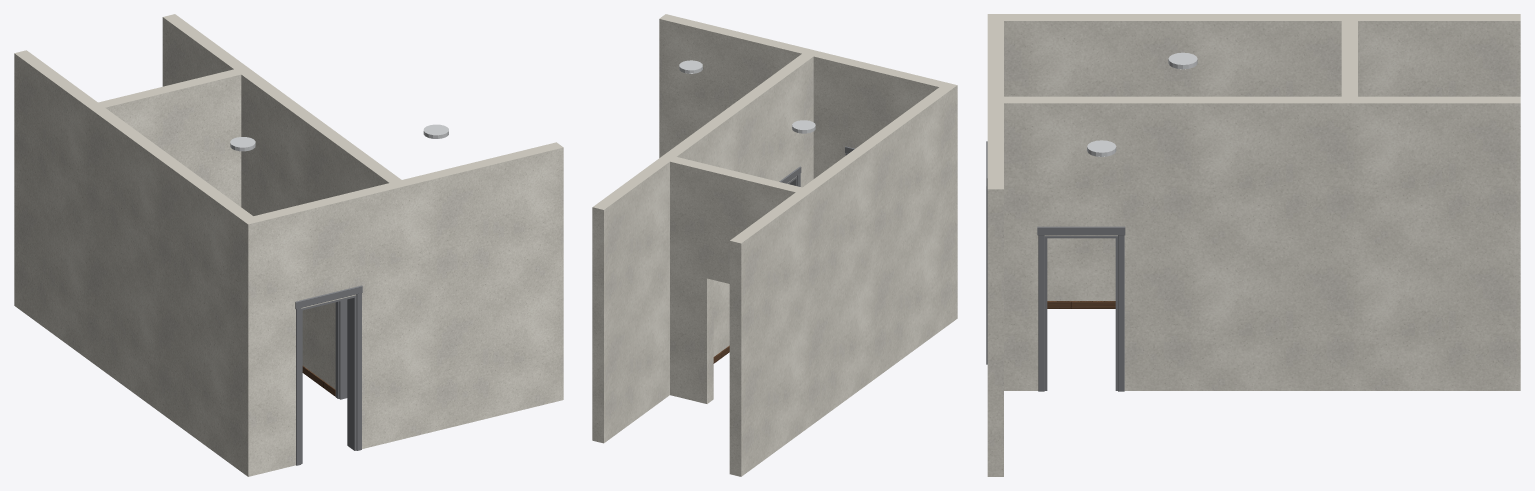
File: core_ground.glb
3 renders of one model, left to right at view 1: azimuth 30°, elevation 25°; view 2: azimuth 150°, elevation 25°; view 3: azimuth 270°, elevation 25°, orthographic. The views are drawn at different scales.
Visible parts, largest first — view 1: core_ground_plaster, core_ground_frame, core_ground_metal; view 2: core_ground_plaster, core_ground_metal; view 3: core_ground_plaster, core_ground_frame, core_ground_metal.
Boxes of the visible parts, box(x1,y1,x2,y2) form: core_ground_plaster: box(14, 14, 563, 476); core_ground_frame: box(295, 285, 362, 465); core_ground_metal: box(230, 124, 448, 151); core_ground_plaster: box(592, 14, 957, 476); core_ground_metal: box(679, 60, 815, 133); core_ground_plaster: box(987, 14, 1520, 476); core_ground_frame: box(986, 141, 1125, 391); core_ground_metal: box(1087, 52, 1197, 156).
Size of the model in its own units: 5.1 by 3.9 by 6.57.
Materials: 7 (2 with a texture image).
